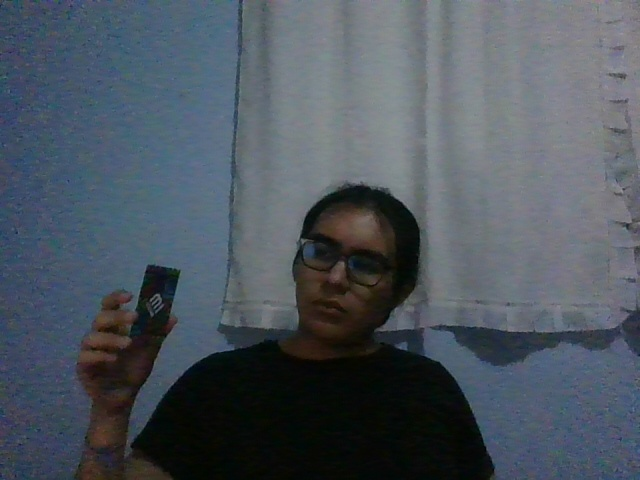tarjeta: (127, 263, 181, 348)
